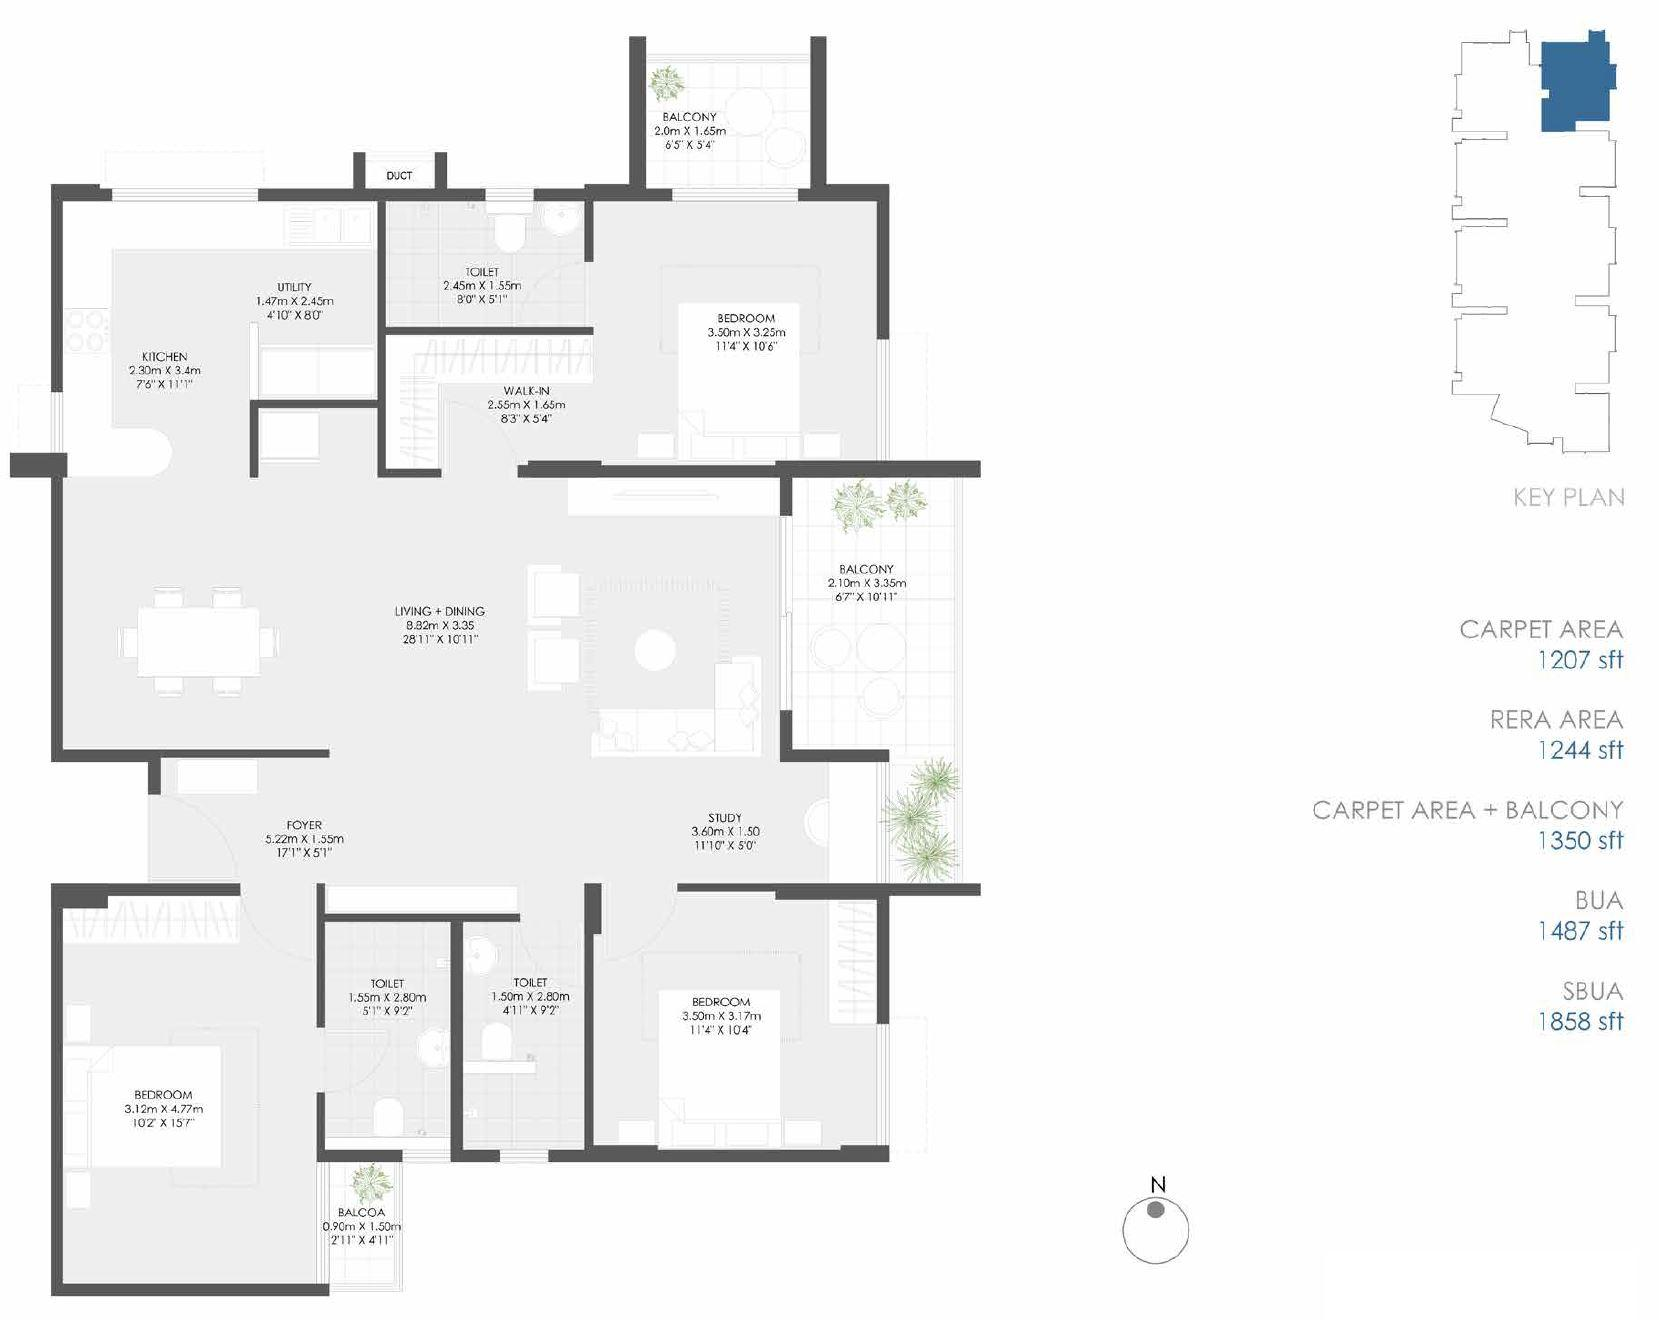Balcony: (790, 479, 955, 753), (645, 56, 815, 189)
Bed: (60, 1043, 222, 1174), (658, 988, 784, 1152), (676, 302, 800, 464)
Bedroom: (60, 889, 322, 1290), (591, 885, 880, 1154), (596, 200, 880, 464)
Dining Room: (64, 490, 382, 746)
Dining table: (119, 576, 292, 702)
Foyer: (157, 757, 585, 883)
Kitchen: (61, 198, 248, 467)
Living Room: (376, 478, 784, 755)
Sofa: (591, 710, 760, 759), (710, 657, 762, 753), (526, 568, 582, 624), (530, 633, 582, 685)
Wardrobe: (391, 335, 593, 384), (61, 896, 237, 944), (324, 880, 517, 914), (391, 338, 436, 464), (829, 900, 875, 1023), (180, 759, 260, 797)
balcoa: (322, 1162, 398, 1289)
commode: (480, 1018, 518, 1064), (491, 218, 530, 255), (371, 1097, 403, 1139)
door: (589, 873, 687, 971), (439, 395, 529, 485), (150, 798, 240, 885), (240, 884, 318, 971), (512, 255, 596, 335), (316, 1023, 392, 1101), (517, 919, 583, 997), (773, 511, 797, 722), (669, 178, 805, 214), (313, 1161, 345, 1291)
duct: (367, 159, 437, 185)
kitchen-slab: (60, 198, 112, 475), (60, 200, 247, 253), (112, 428, 173, 475)
sink: (541, 202, 583, 240), (413, 1031, 450, 1067), (462, 936, 496, 971)
study: (585, 757, 884, 881)
toilet: (322, 915, 452, 1155), (457, 921, 586, 1159), (384, 198, 590, 326)
tv: (612, 486, 730, 519)
utility: (253, 192, 378, 399)
walkin: (388, 334, 586, 467)
washing-machine: (283, 202, 375, 249)
